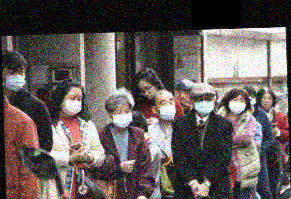with_mask: (3, 65, 26, 92), (62, 92, 83, 117), (111, 105, 133, 128), (158, 95, 177, 121), (193, 95, 215, 115), (228, 95, 247, 115), (247, 92, 258, 107)
without_mask: (137, 82, 157, 101), (258, 92, 275, 110), (180, 87, 193, 108)
